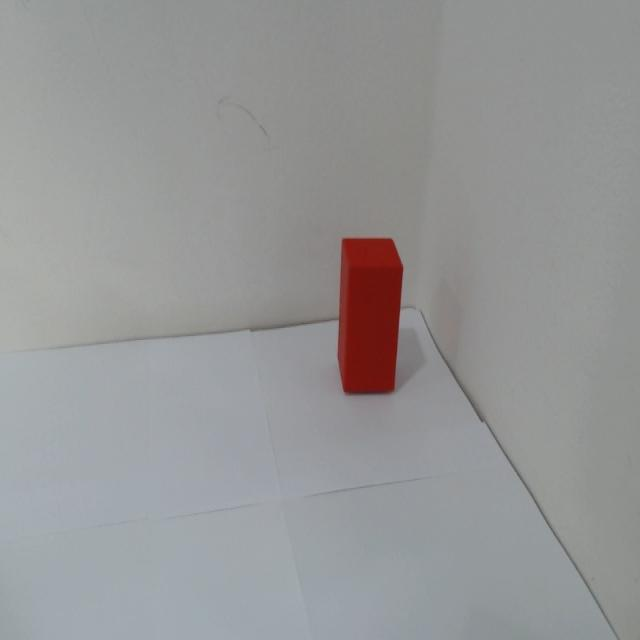cube: (323, 218, 413, 406)
